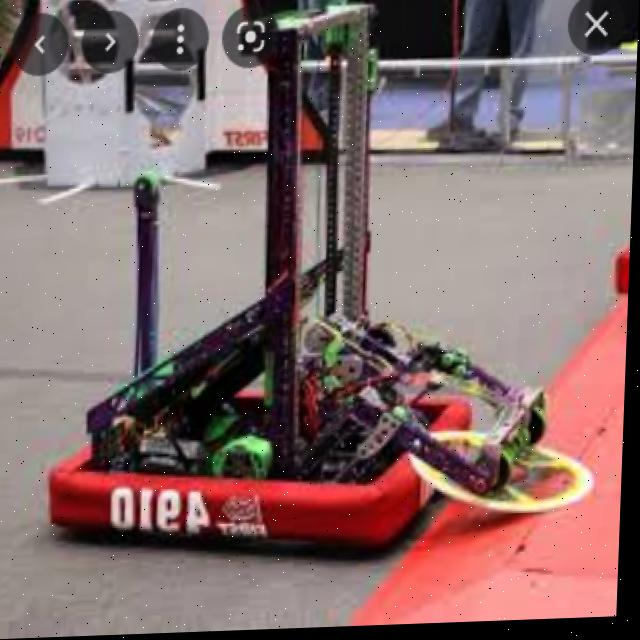robot: (45, 0, 561, 562)
